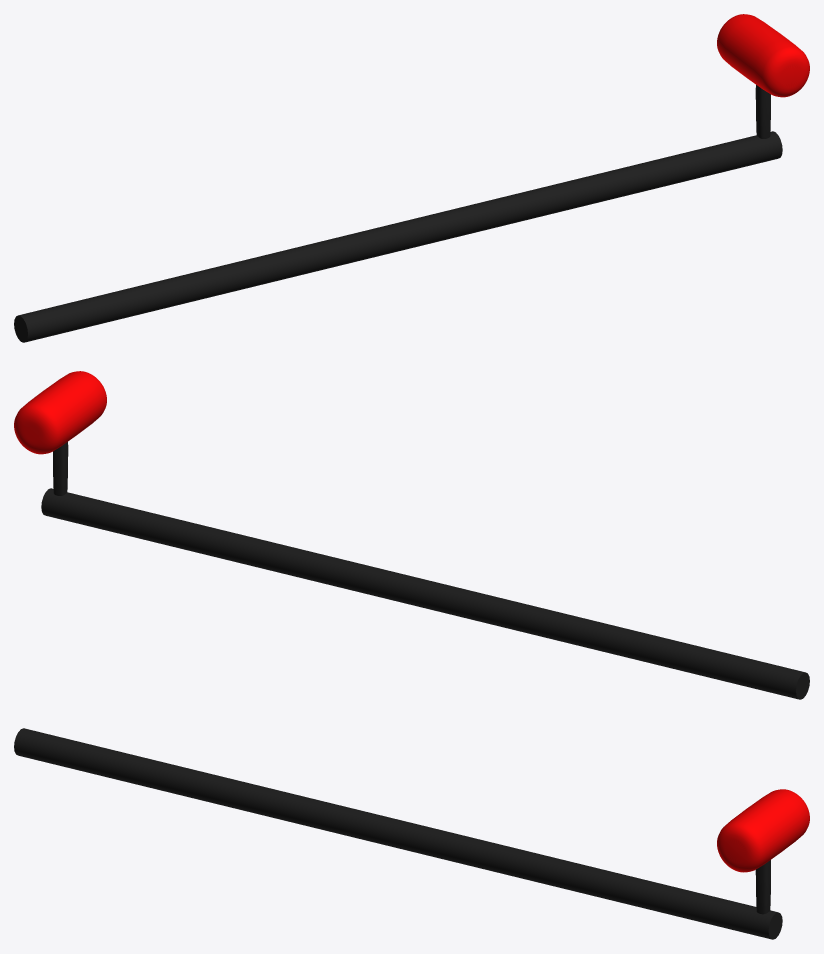
File: hammer.fbx
3 renders of one model, top to bottom at view 1: azimuth 30°, elevation 25°; view 2: azimuth 150°, elevation 25°; view 3: azimuth 330°, elevation 25°, orthographic.
Parts seen in each view (by area): view 1: Hammer; view 2: Hammer; view 3: Hammer.
Part boxes in pixels (<box>): Hammer: <box>14,14,809,342</box>; Hammer: <box>14,371,809,699</box>; Hammer: <box>14,728,809,939</box>.
Bounding box in the file's own units: 6298 × 1022 × 800.
